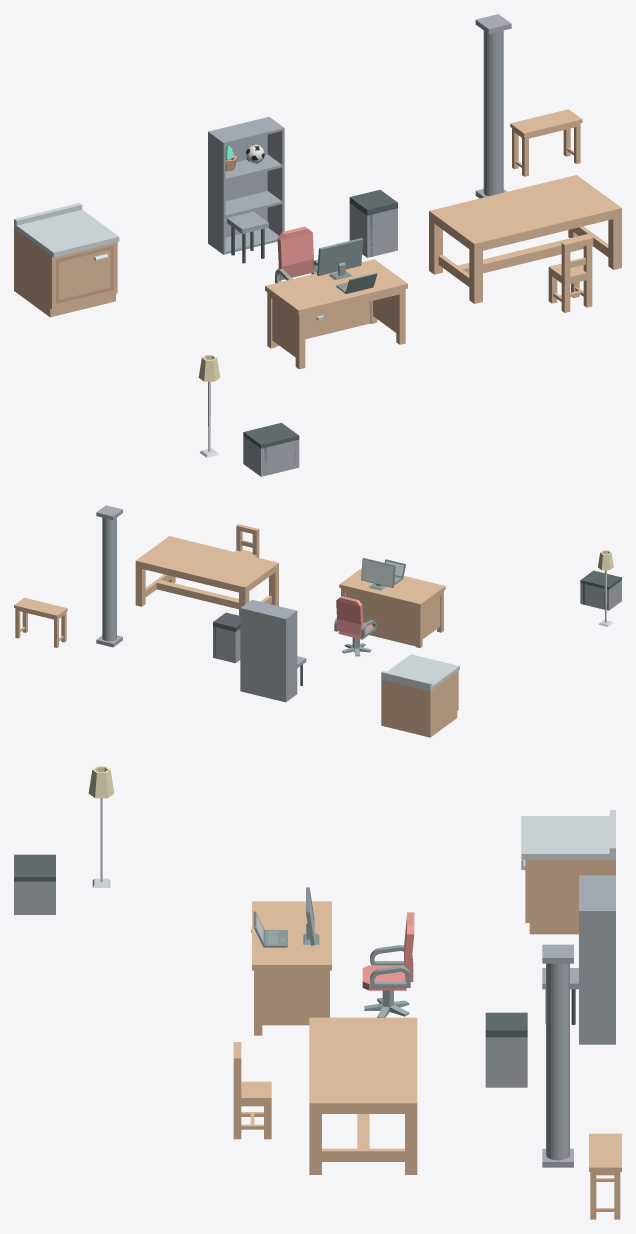
3 renders of one model, top to bottom at view 1: azimuth 30°, elevation 25°; view 2: azimuth 150°, elevation 25°; view 3: azimuth 270°, elevation 25°, orthographic. The views are drawn at different scales.
Visible parts, largest first — view 1: table_green__table(Clone), desk_blue__desk(Clone), cabinet_blue__kitchenCabinet(Clone), column_cyan__column_cyan shaft, cabinet_blue__door, chair_cyan__chair(Clone), sidetable_brown__sideTable(Clone), shelf_orange__shelf_orange side_l, bin_gray__bin_gray shell, deskchair_black__chair, shelf_orange__shelf_orange back, crate_red__crate_red shell (+10 smaller); view 2: table_green__table(Clone), cabinet_blue__kitchenCabinet(Clone), desk_blue__desk(Clone), shelf_orange__shelf_orange back, column_cyan__column_cyan shaft, sidetable_brown__sideTable(Clone), deskchair_black__chair, shelf_orange__shelf_orange side_l, bin_gray__bin_gray shell, monitor_gray__computerScreen(Clone), crate_red__crate_red shell, chair_cyan__chair(Clone) (+4 smaller); view 3: table_green__table(Clone), cabinet_blue__kitchenCabinet(Clone), desk_blue__desk(Clone), shelf_orange__shelf_orange side_r, column_cyan__column_cyan shaft, chair_cyan__chair(Clone), bin_gray__bin_gray shell, sidetable_brown__sideTable(Clone), deskchair_black__chair, crate_red__crate_red shell, shelf_orange__shelf_orange board3, crate_red__crate_red lid (+5 smaller).
Part boxes in pixels (bbox=[...]): table_green__table(Clone): bbox=[429, 175, 621, 303]; desk_blue__desk(Clone): bbox=[265, 259, 407, 369]; cabinet_blue__kitchenCabinet(Clone): bbox=[14, 203, 119, 317]; column_cyan__column_cyan shaft: bbox=[483, 30, 503, 196]; cabinet_blue__door: bbox=[56, 245, 113, 303]; chair_cyan__chair(Clone): bbox=[548, 236, 592, 312]; sidetable_brown__sideTable(Clone): bbox=[510, 109, 582, 176]; shelf_orange__shelf_orange side_l: bbox=[208, 131, 225, 254]; bin_gray__bin_gray shell: bbox=[349, 203, 397, 257]; deskchair_black__chair: bbox=[275, 226, 317, 283]; shelf_orange__shelf_orange back: bbox=[211, 117, 267, 237]; crate_red__crate_red shell: bbox=[243, 436, 299, 476]; table_green__table(Clone): bbox=[135, 536, 278, 615]; cabinet_blue__kitchenCabinet(Clone): bbox=[381, 654, 459, 737]; desk_blue__desk(Clone): bbox=[339, 568, 445, 647]; shelf_orange__shelf_orange back: bbox=[242, 608, 284, 701]; column_cyan__column_cyan shaft: bbox=[102, 517, 116, 641]; sidetable_brown__sideTable(Clone): bbox=[14, 597, 67, 647]; deskchair_black__chair: bbox=[334, 596, 376, 639]; shelf_orange__shelf_orange side_l: bbox=[284, 610, 297, 702]; bin_gray__bin_gray shell: bbox=[213, 626, 240, 663]; monitor_gray__computerScreen(Clone): bbox=[361, 558, 395, 590]; crate_red__crate_red shell: bbox=[580, 580, 621, 610]; chair_cyan__chair(Clone): bbox=[234, 524, 259, 557]; table_green__table(Clone): bbox=[309, 1017, 417, 1174]; cabinet_blue__kitchenCabinet(Clone): bbox=[521, 810, 615, 934]; desk_blue__desk(Clone): bbox=[252, 901, 331, 1035]; shelf_orange__shelf_orange side_r: bbox=[579, 909, 615, 1044]; column_cyan__column_cyan shaft: bbox=[546, 963, 569, 1160]; chair_cyan__chair(Clone): bbox=[233, 1042, 271, 1139]; bin_gray__bin_gray shell: bbox=[485, 1037, 527, 1087]; sidetable_brown__sideTable(Clone): bbox=[589, 1133, 621, 1219]; deskchair_black__chair: bbox=[362, 912, 414, 990]; crate_red__crate_red shell: bbox=[14, 881, 55, 914]; shelf_orange__shelf_orange board3: bbox=[579, 876, 613, 909]; crate_red__crate_red lid: bbox=[14, 854, 55, 881].
Size of the model in its own units: 7.66 by 2.2 by 5.78.
